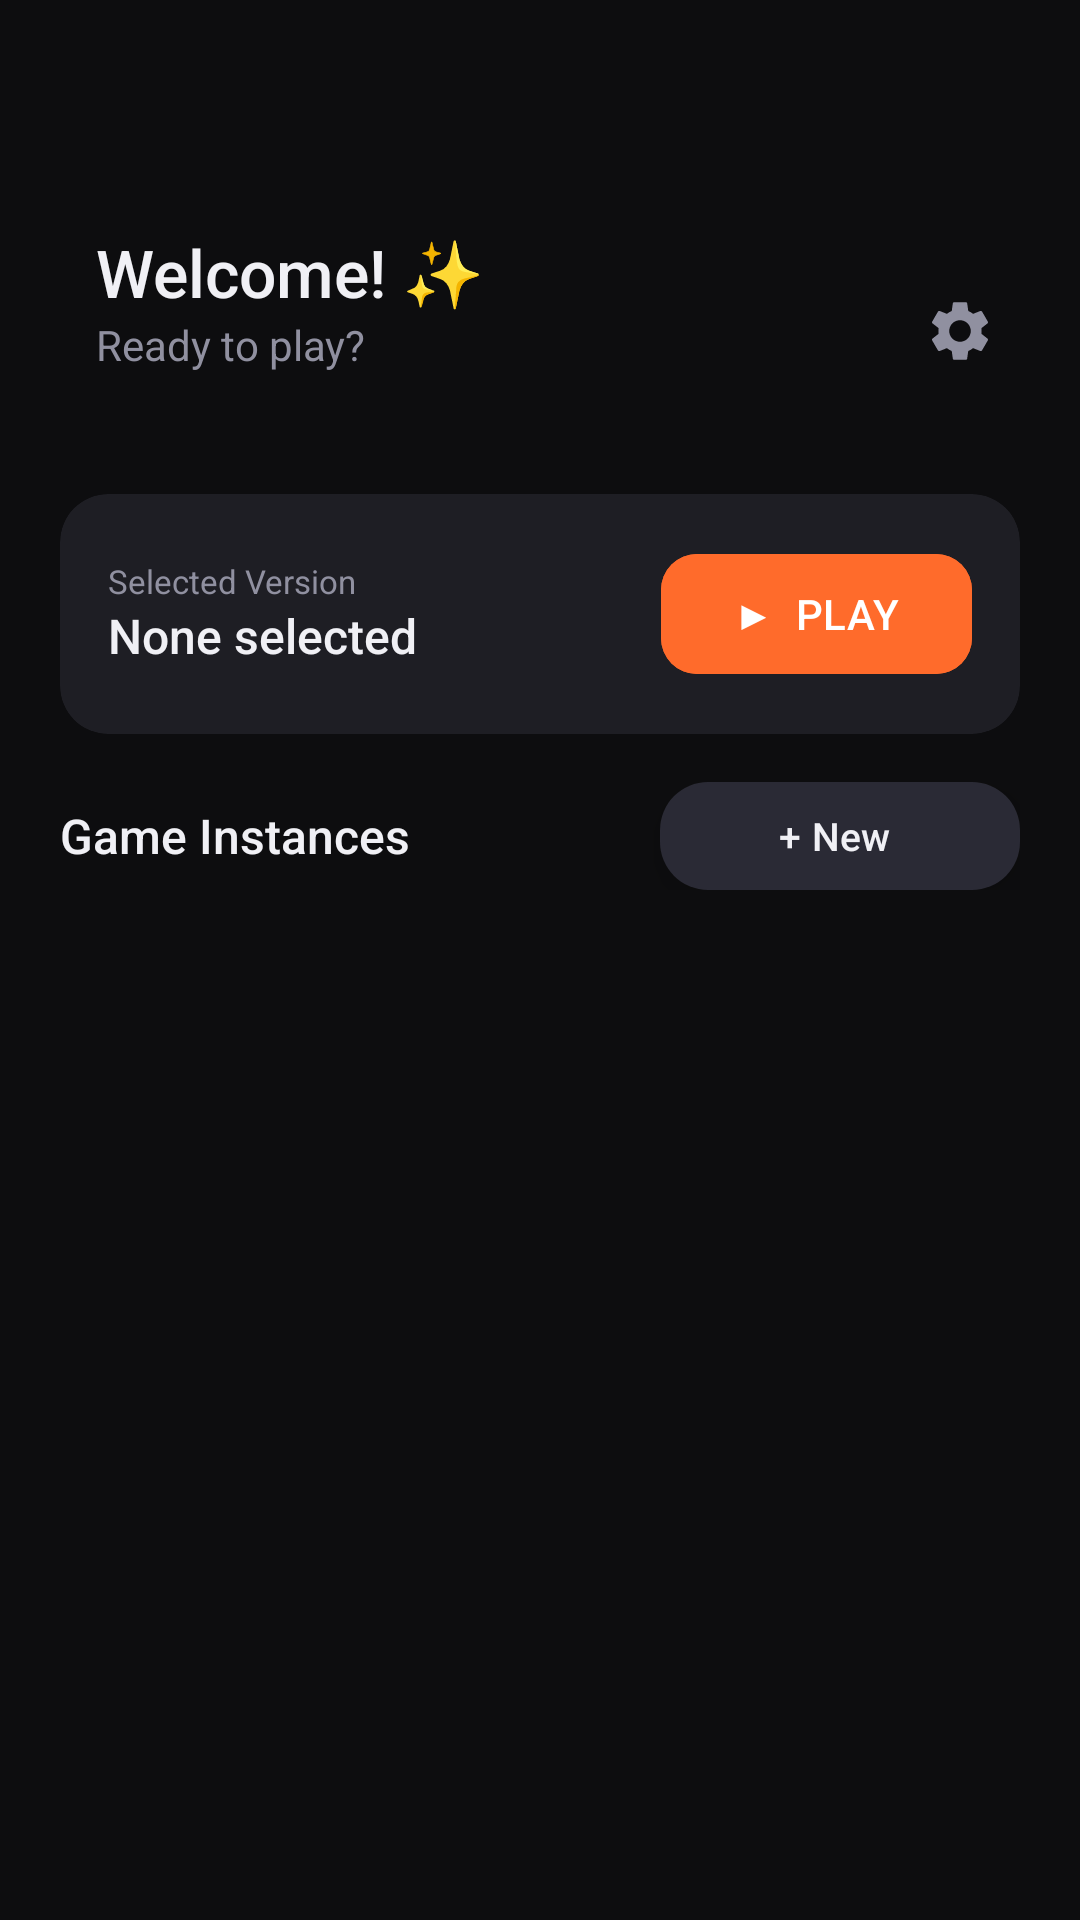

Icon bounding boxes for this 1080 × 1920 phone screenshot, format (x1, y1, x2, y2):
Settings: (932, 302, 988, 360)
